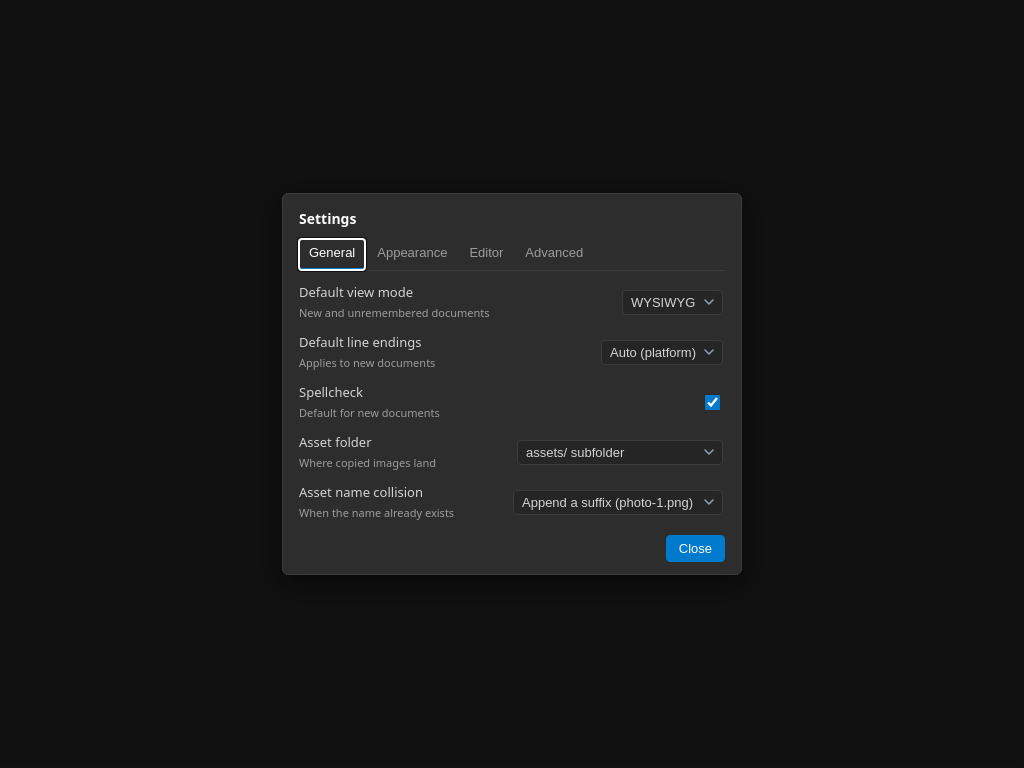
Test: SettingsDialog component (issue #94) › the Editor tab exposes the tab key and the input/paste behaviors
Step 1. Click the tab "Editor" → (486, 254), box [459,239,513,270]
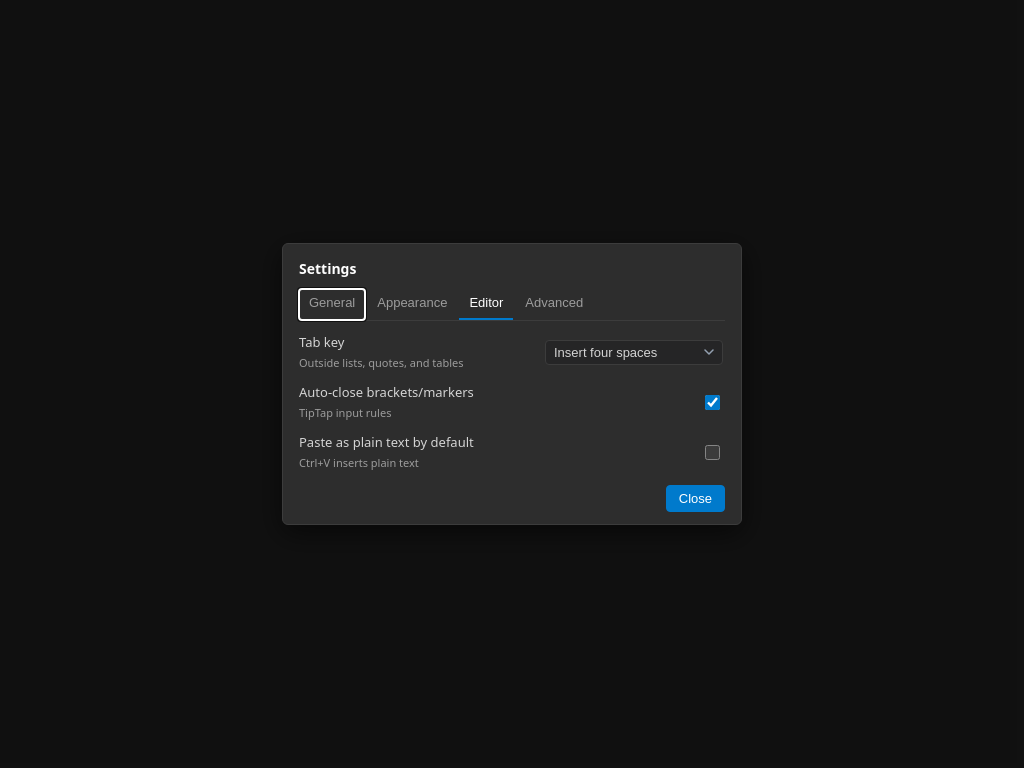
Result: the text "Tab key" is shown at [299,333,344,351]
Result: the dropdown shows "Insert four spaces" at [545,340,723,364]
Result: the text "Auto-close brackets/markers" is shown at [299,383,474,402]
